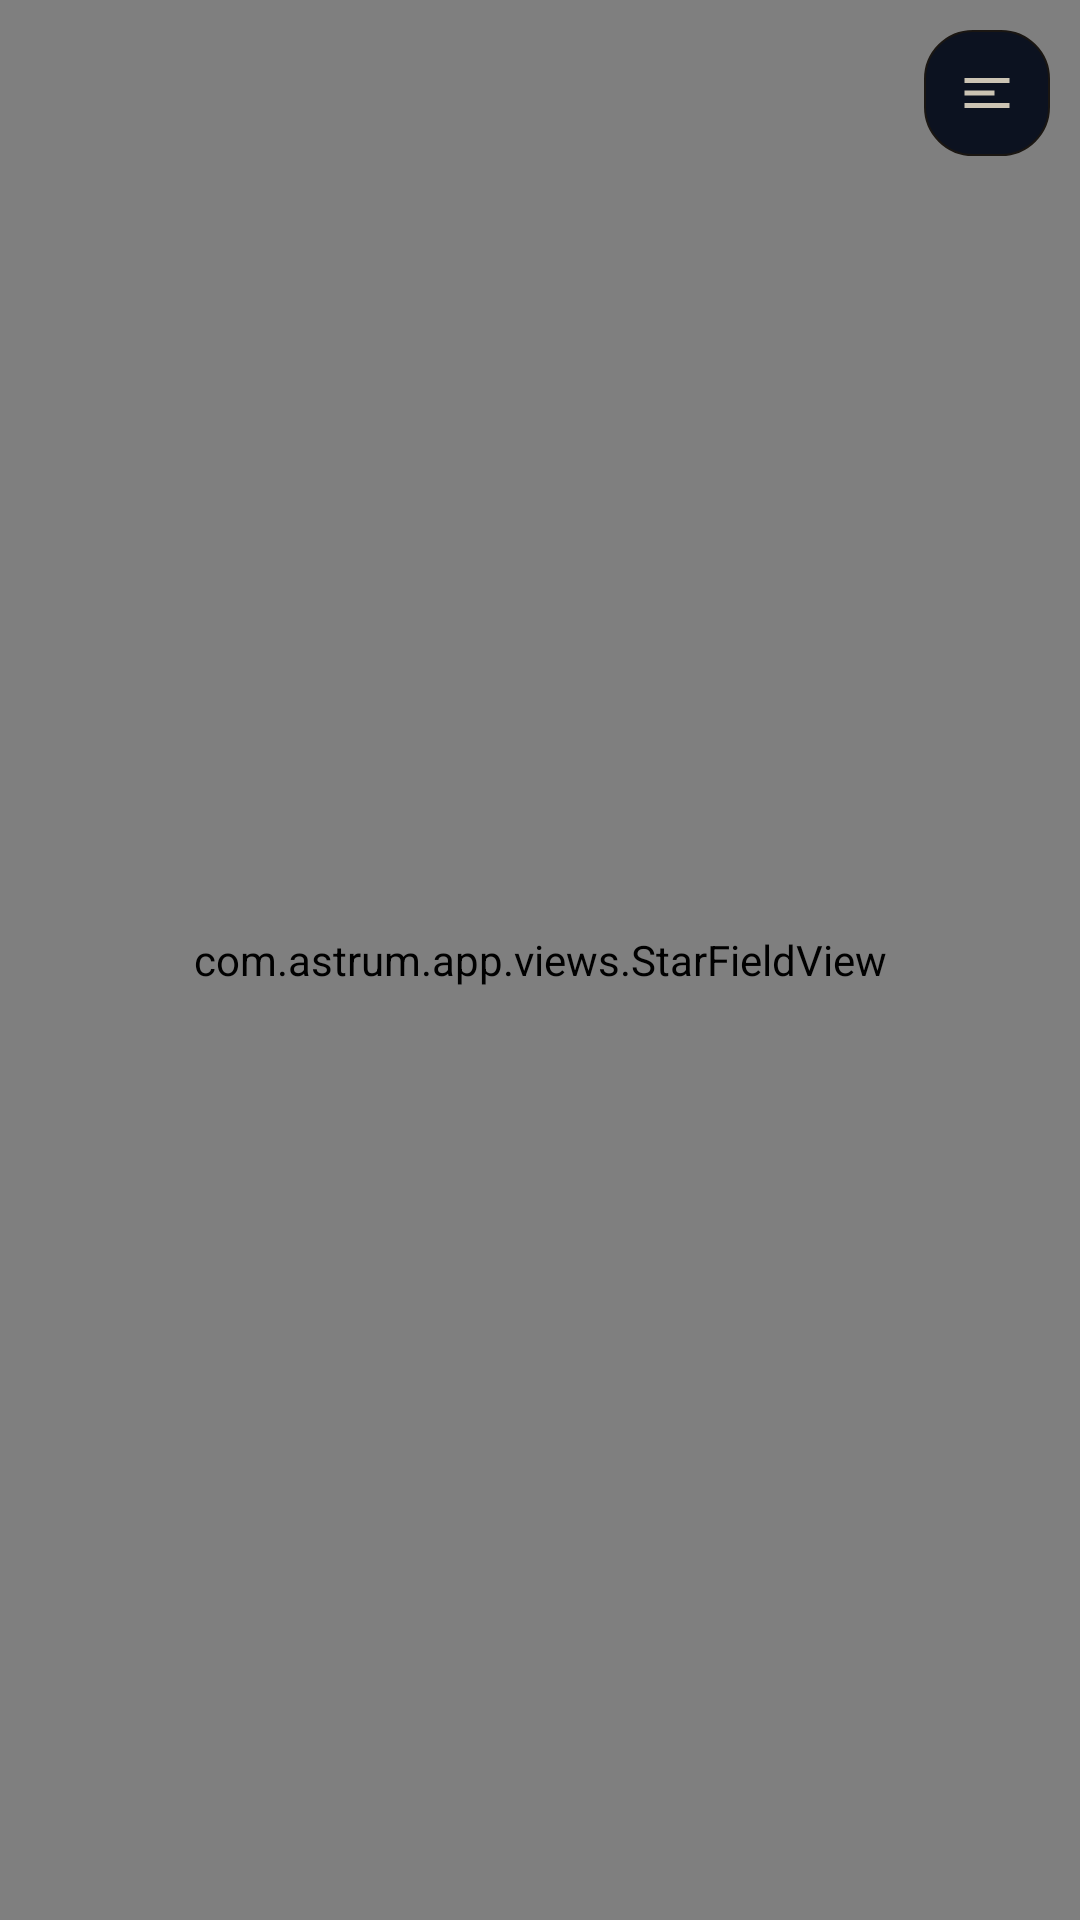

Point at icon controls on the screen. Image size 1080w x 1920h, points as (x,y).
Sort by: (987,93)
